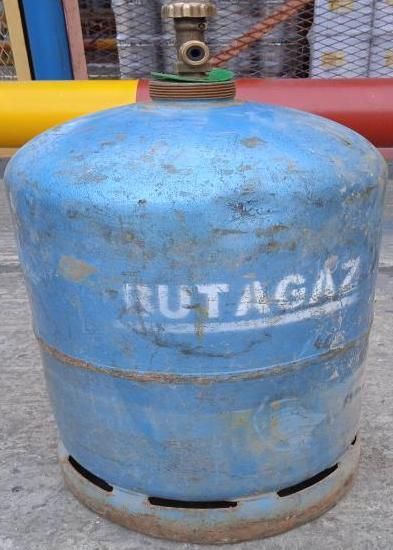cylinder: (1, 0, 393, 550)
